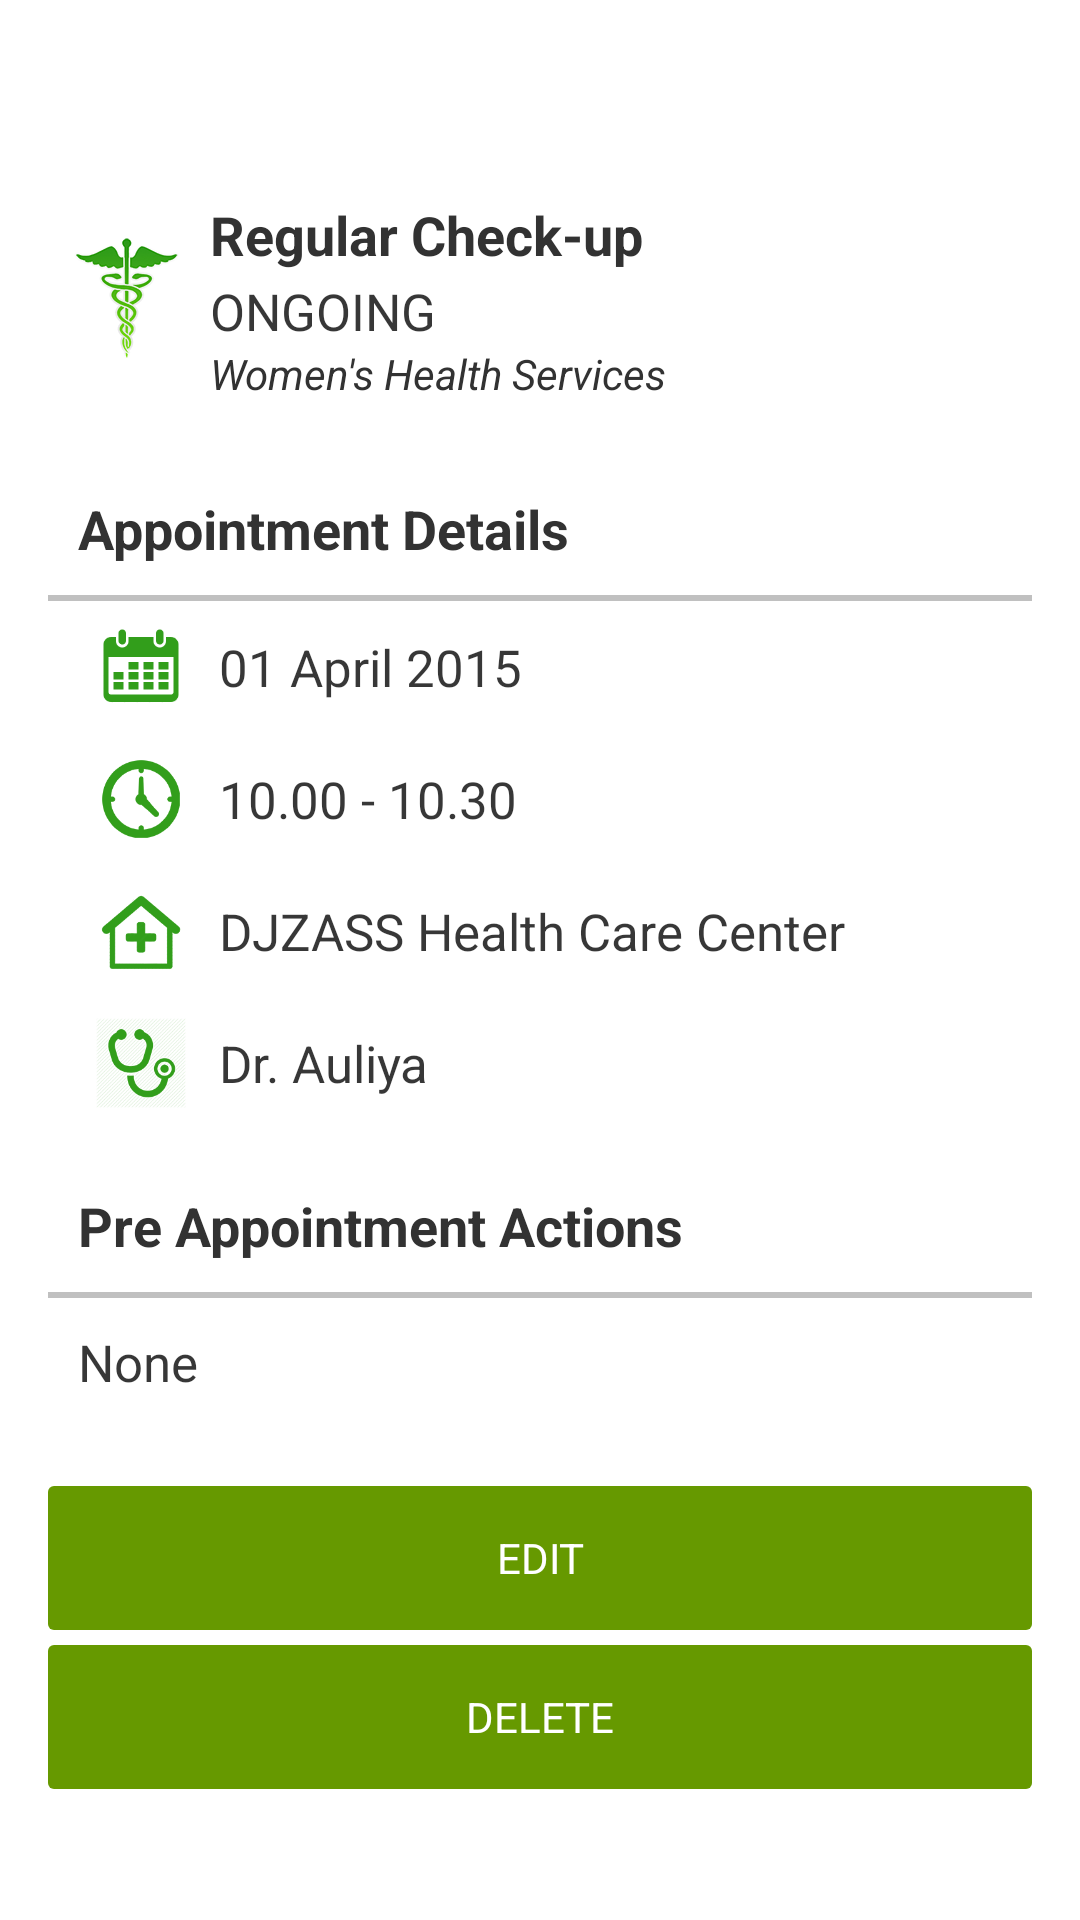

Screen size 1080x1920. Icon name, then its box in pixels as (x1, y1, x2, y2):
calendar: (103, 629, 179, 702)
clinic: (102, 896, 181, 969)
clock: (102, 760, 180, 838)
doctor: (99, 1021, 185, 1107)
